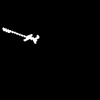double_crochet: (3, 28, 38, 42)
